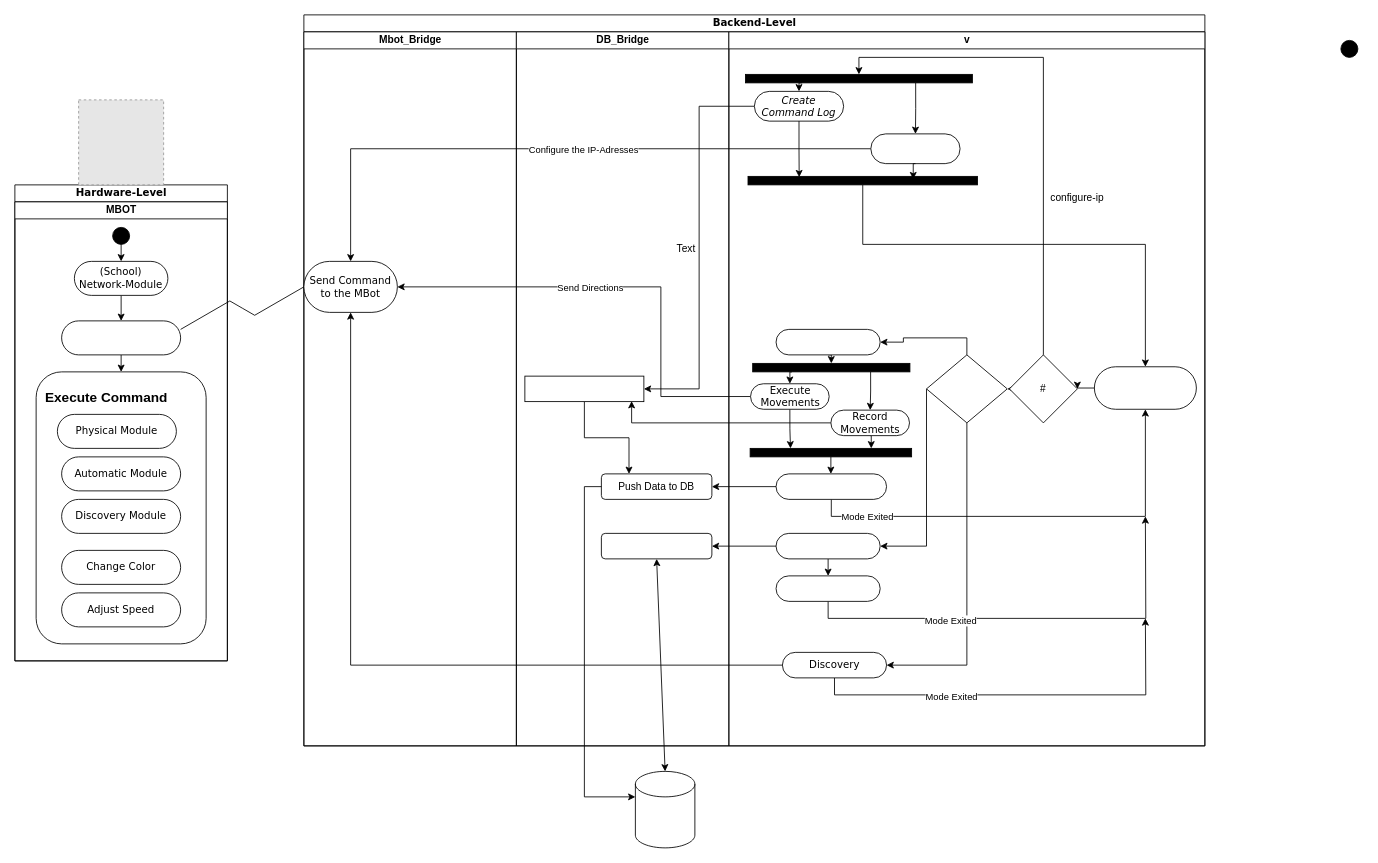
Image size: 1378x863. Some labels were removed from this diagram. Grey dashed boxes stand in for pictures. Each missing label, with the centre of its shape:
"Automatic" goes at point 827,546.
"Configure Connection" goes at point 915,148.
"Controller" goes at point 827,342.
"Drive the Route" goes at point 827,588.
"Locale Command Log" goes at point 584,388.
"Recieve Commands" goes at point 1145,387.
"Retrieve Route" goes at point 656,546.
"Save Route" goes at point 831,486.
"Waiting for further commands" goes at point 121,337.
"Which Mode sent?" goes at point 966,388.
